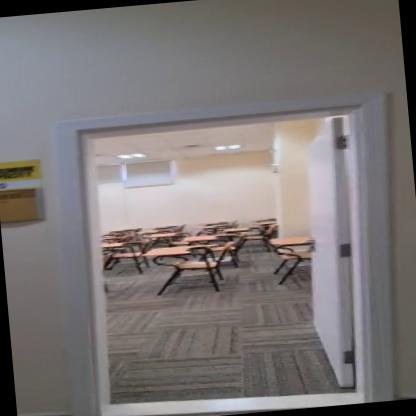open: (45, 78, 395, 415)
